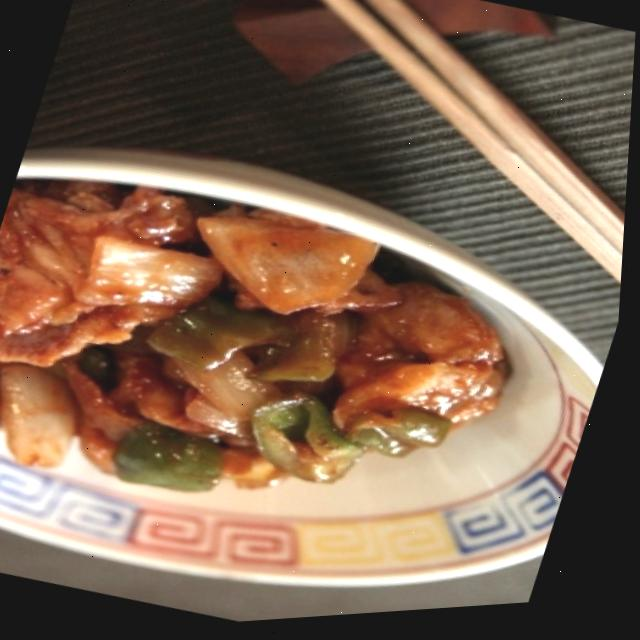猪肉菜式: (0, 133, 558, 592)
